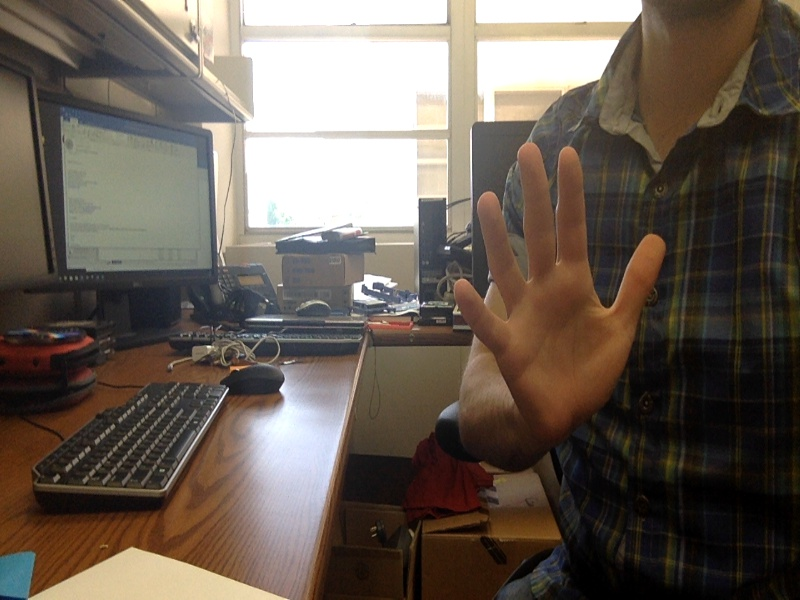5-hand: (455, 141, 669, 451)
